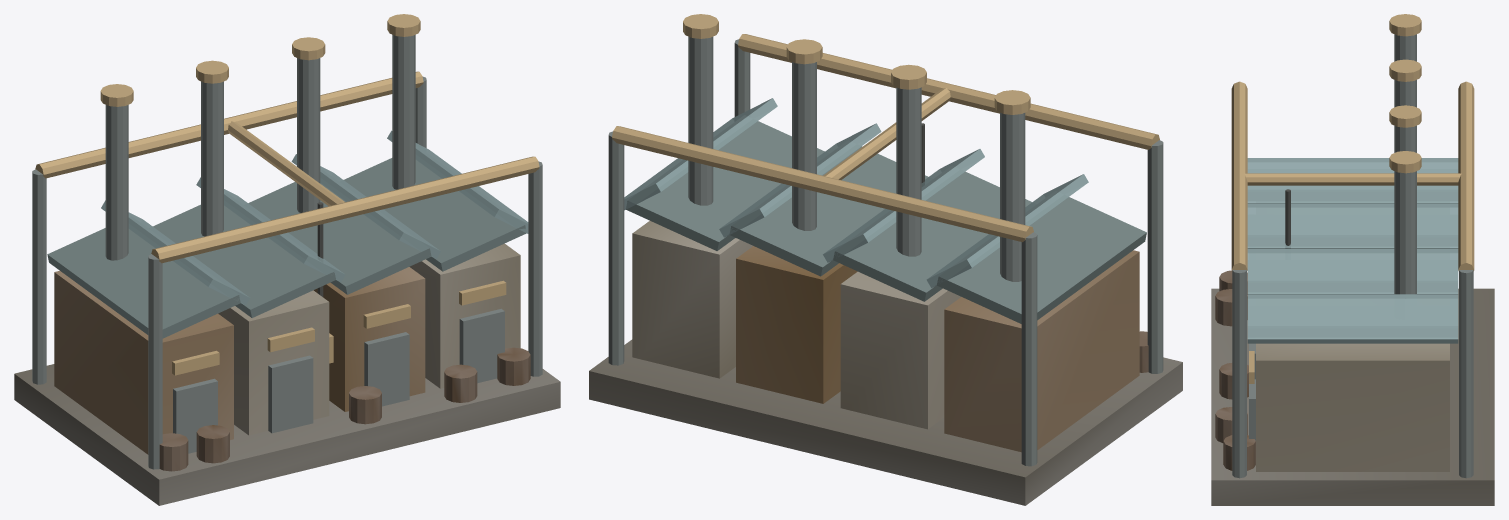
The model's file is tool-works.glb.
3 renders of one model, left to right at view 1: azimuth 30°, elevation 25°; view 2: azimuth 150°, elevation 25°; view 3: azimuth 270°, elevation 25°, orthographic. The views are drawn at different scales.
Visible parts, largest first — view 1: tool_plinth, shop_0, tools_roof_a_0, shop_1, shop_2, tools_roof_a_3, tools_roof_a_1, shop_3, tools_roof_a_2, gantry_cross_front, gantry_cross_back, chimney_0 (+29 smaller); view 2: tool_plinth, shop_0, shop_2, shop_1, shop_3, tools_roof_a_0, tools_roof_a_3, tools_roof_a_1, tools_roof_a_2, gantry_cross_back, gantry_cross_front, gantry_leg_-2.65 (+16 smaller); view 3: shop_3, tool_plinth, tools_roof_b_3, tools_roof_b_2, tools_roof_b_1, tools_roof_b_0, gantry_cross_front, gantry_cross_back, gantry_leg_2.65, gantry_leg2_2.65, chimney_3, gantry_bridge (+17 smaller).
Boxes of the visible parts, x1,y1,x2,y2 form: tool_plinth: (14,364,560,505); shop_0: (54,270,233,454); tools_roof_a_0: (47,216,240,338); shop_1: (218,290,329,435); shop_2: (313,267,425,411); tools_roof_a_3: (344,147,526,271); tools_roof_a_1: (153,193,335,317); shop_3: (409,243,520,388); tools_roof_a_2: (248,170,431,294); gantry_cross_front: (151,156,539,263); gantry_cross_back: (35,71,423,178); chimney_0: (105,105,128,260); tool_plinth: (589,339,1182,505); shop_0: (944,250,1139,452); shop_2: (736,246,857,403); shop_1: (840,271,961,429); shop_3: (632,221,752,378); tools_roof_a_0: (937,191,1146,323); tools_roof_a_3: (626,115,824,250); tools_roof_a_1: (833,166,1031,301); tools_roof_a_2: (730,141,928,276); gantry_cross_back: (612,126,1033,242); gantry_cross_front: (738,34,1159,149); gantry_leg_-2.65: (1021,232,1037,466); shop_3: (1256,343,1449,471); tool_plinth: (1211,288,1494,505); tools_roof_b_3: (1247,294,1458,343); tools_roof_b_2: (1247,249,1458,294); tools_roof_b_1: (1247,203,1458,248); tools_roof_b_0: (1247,158,1458,203); gantry_cross_front: (1231,81,1247,270); gantry_cross_back: (1458,81,1474,270); gantry_leg_2.65: (1459,270,1473,478); gantry_leg2_2.65: (1232,270,1246,478); chimney_3: (1394,171,1416,294); gantry_bridge: (1244,173,1461,185).
Bounding box in the file's own units: 5.6 × 4.37 × 3.5.
